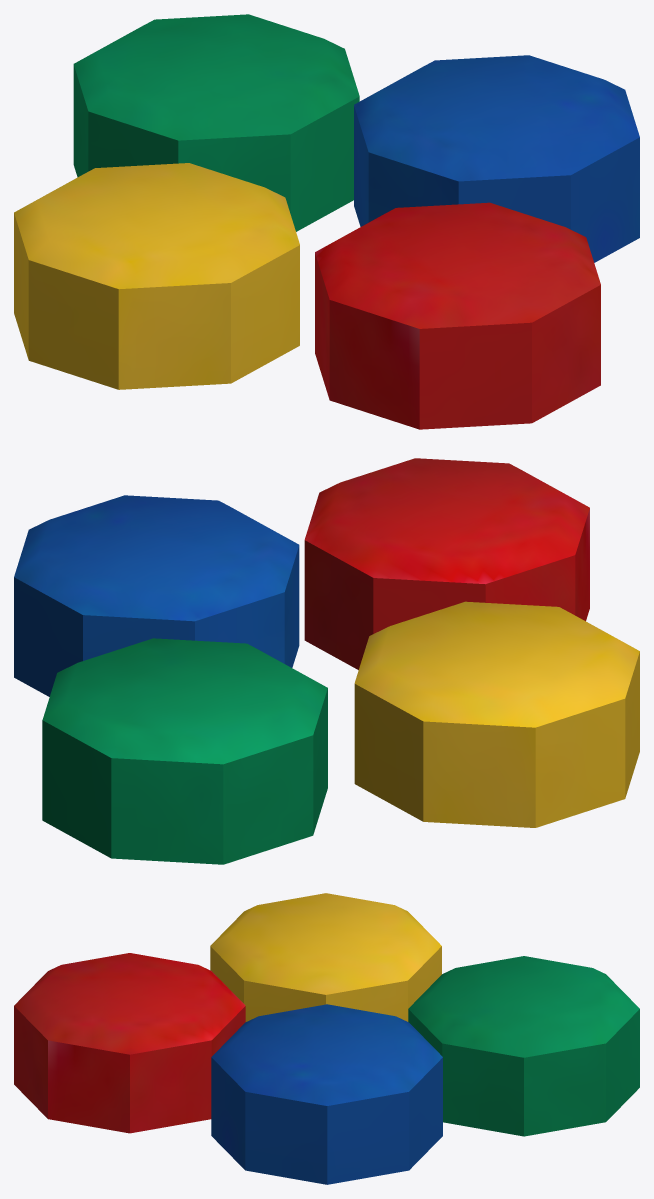
The model's file is msh_manette_004.fbx.
3 views of the same model, one above another, from view 1: azimuth 30°, elevation 25°; view 2: azimuth 150°, elevation 25°; view 3: azimuth 270°, elevation 25° (orthographic). The views are drawn at different scales.
Visible parts, largest first — view 1: msh_manette_004.002, msh_manette_004.003, msh_manette_004.001, msh_manette_004; view 2: msh_manette_004.001, msh_manette_004.002, msh_manette_004.003, msh_manette_004; view 3: msh_manette_004, msh_manette_004.003, msh_manette_004.001, msh_manette_004.002.
Boxes of the visible parts, box(x1,y1,x2,y2) form: msh_manette_004.002: box(14, 163, 299, 389); msh_manette_004.003: box(315, 202, 600, 429); msh_manette_004.001: box(73, 14, 359, 231); msh_manette_004: box(354, 55, 639, 262); msh_manette_004.001: box(42, 638, 327, 864); msh_manette_004.002: box(354, 601, 639, 827); msh_manette_004.003: box(304, 458, 589, 669); msh_manette_004: box(14, 495, 299, 696); msh_manette_004: box(211, 1004, 442, 1184); msh_manette_004.003: box(14, 953, 245, 1133); msh_manette_004.001: box(408, 956, 639, 1136); msh_manette_004.002: box(210, 893, 441, 1021).
Size of the model in its own units: 38.22 by 8.56 by 44.36.
